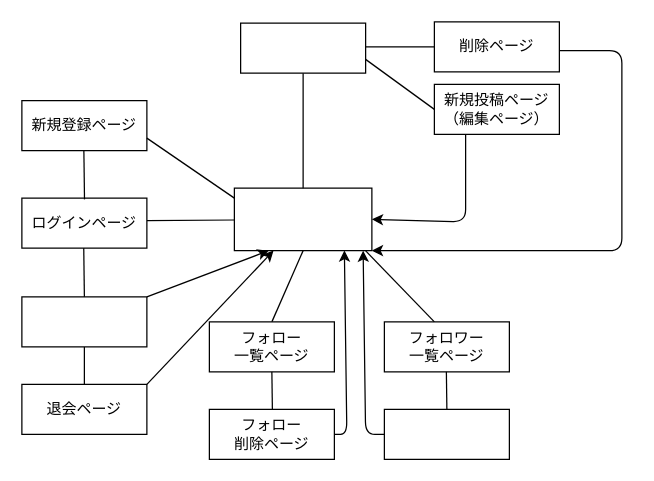
This 654x481 diagram has some shape labels left out. Here are the shapes that lost their labels. From the top down, the centre of each, then its label:
point 302,47: 詳細ページ
point 302,219: トップページ （予定一覧ページ）
point 84,321: ログイン編集 ページ
point 446,433: フォロワー 削除ページ
